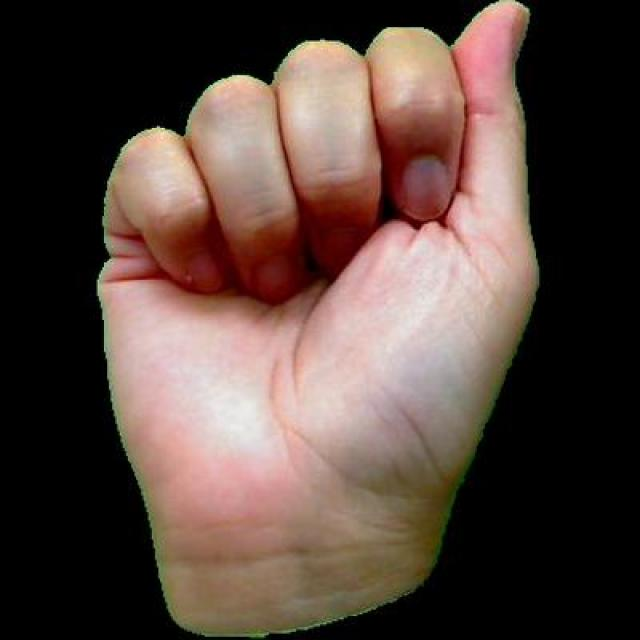a: (74, 0, 560, 637)
